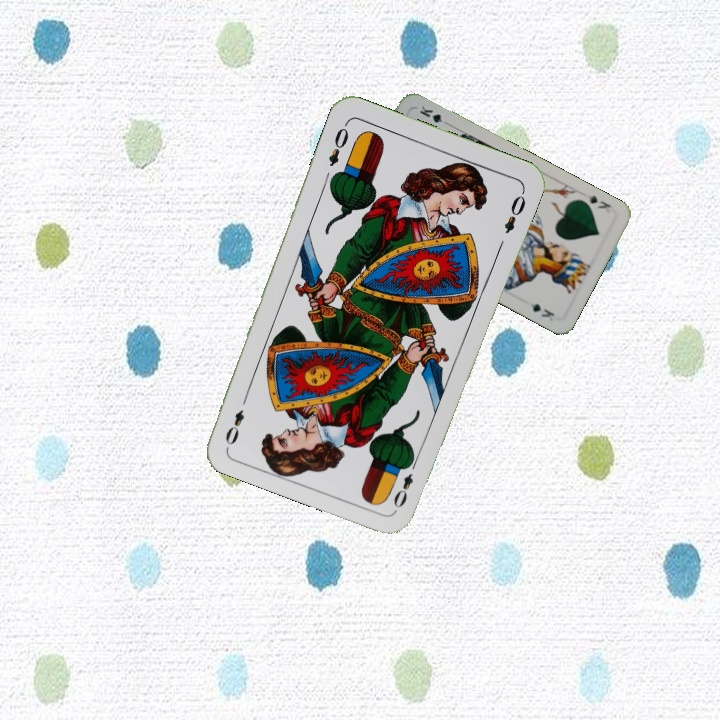EO: (389, 454, 420, 511), (324, 118, 352, 169)
GK: (583, 191, 614, 211)
